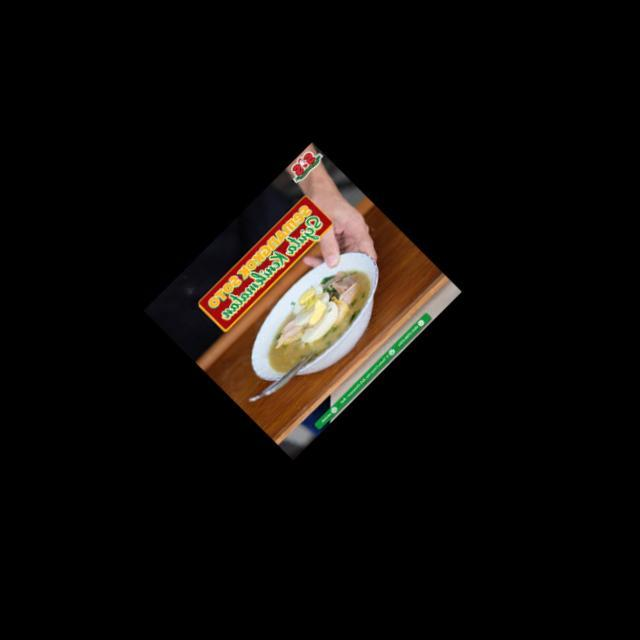Soto: (249, 250, 378, 383)
